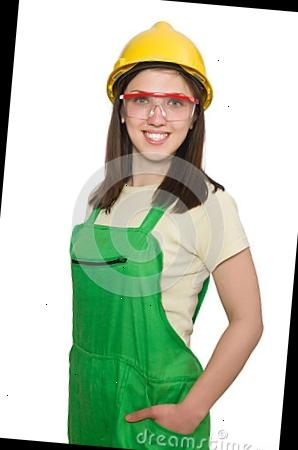helmet: (102, 14, 220, 112)
no_wear: (65, 163, 240, 366)
